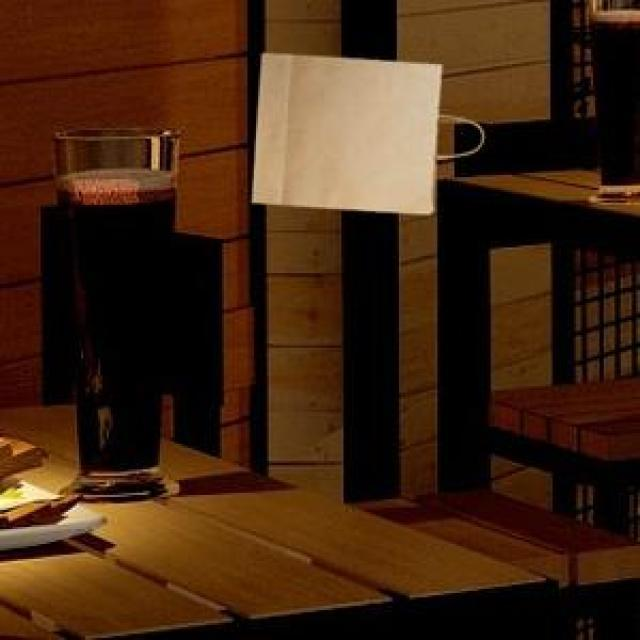paper: (249, 50, 448, 209)
